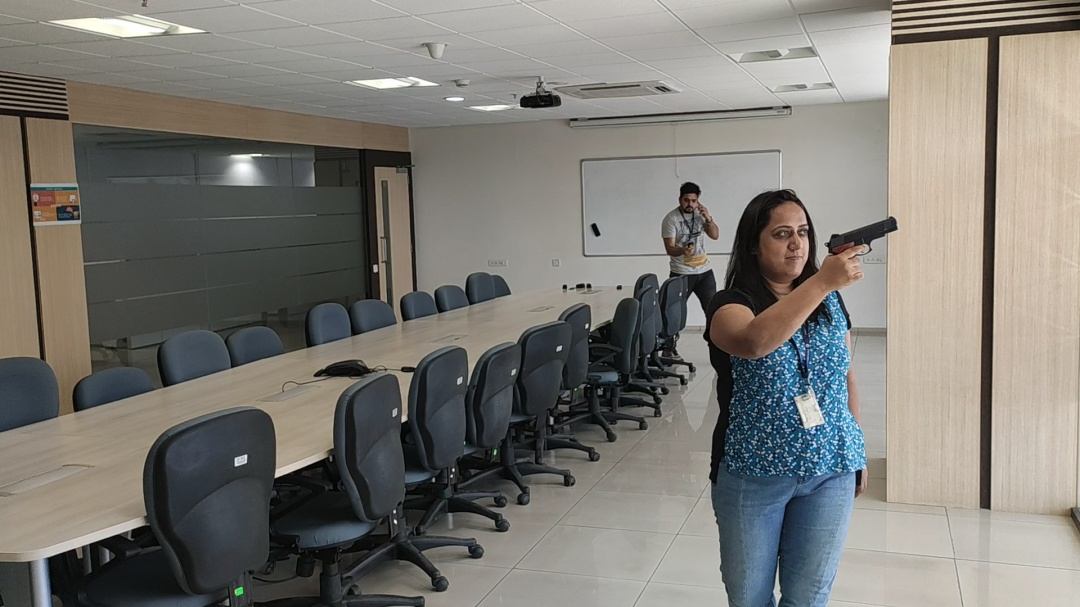gun: (825, 215, 899, 259)
